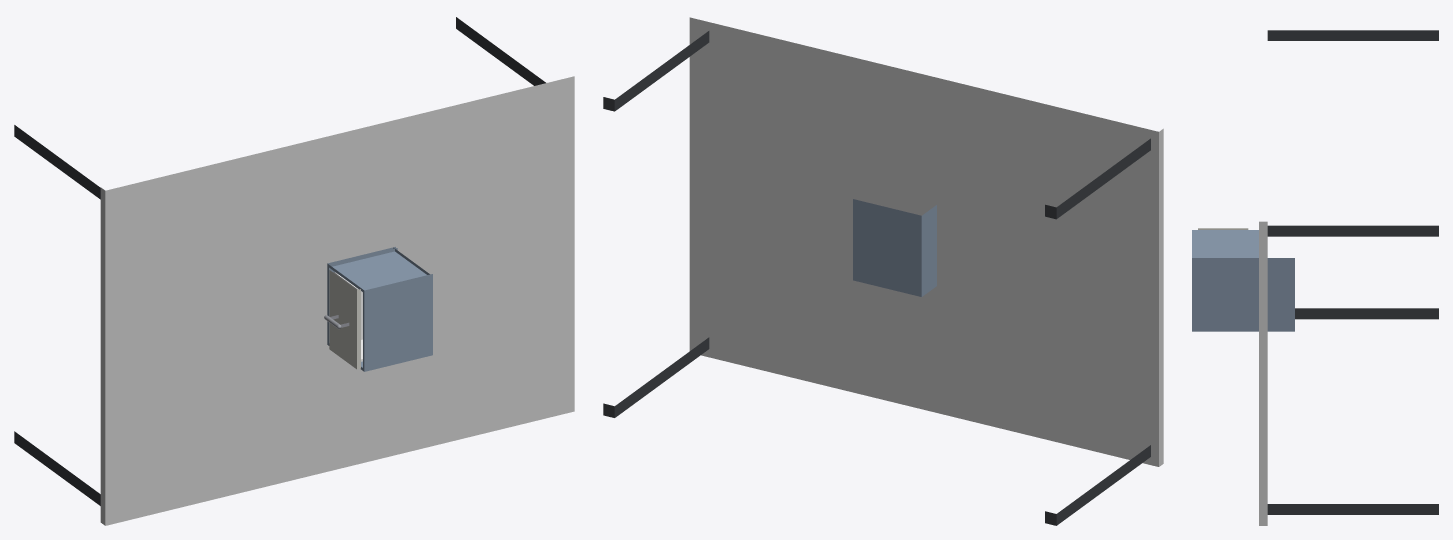
File: t2_0cba8dbcf6.glb
3 renders of one model, left to right at view 1: azimuth 30°, elevation 25°; view 2: azimuth 150°, elevation 25°; view 3: azimuth 270°, elevation 25°, orthographic. The views are drawn at different scales.
Parts seen in each view (by area): view 1: s0, s1, s2; view 2: s0, s1; view 3: s0, s1.
Boxes of the visible parts, box(x1,y1,x2,y2) form: s0: box(14, 17, 574, 525); s1: box(327, 247, 432, 371); s2: box(324, 270, 362, 369); s0: box(603, 17, 1163, 525); s1: box(853, 199, 936, 296); s0: box(1259, 30, 1438, 525); s1: box(1192, 230, 1294, 331).
Bounding box in the file's own units: 2.05 × 1.4 × 1.03.
